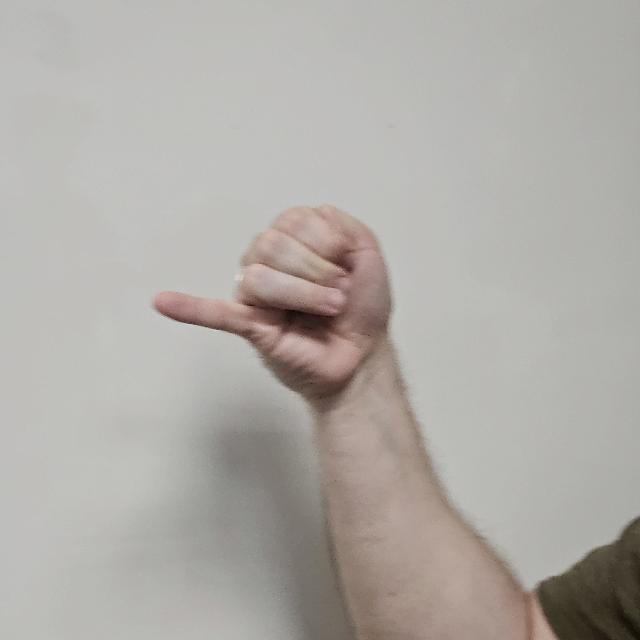Esquerda: (130, 160, 432, 418)
